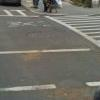Crosswalk: (44, 12, 100, 53)
